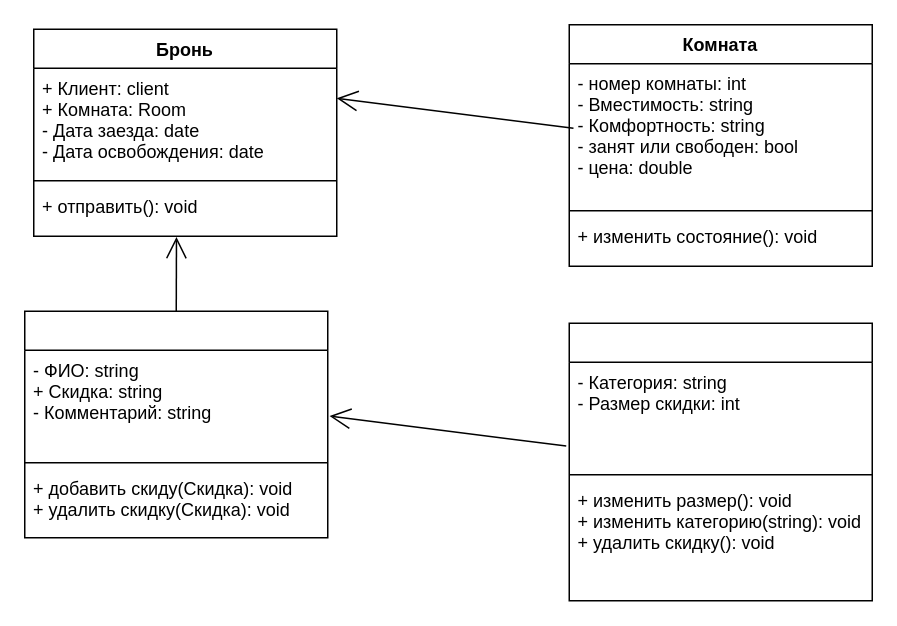
Image size: 897x626. Some labels were removed from this diagram. Here are the shapes that lost their labels. From the top down, the box of each, then its label:
(23, 310, 328, 538): Клиент
(568, 322, 872, 601): Скидка
